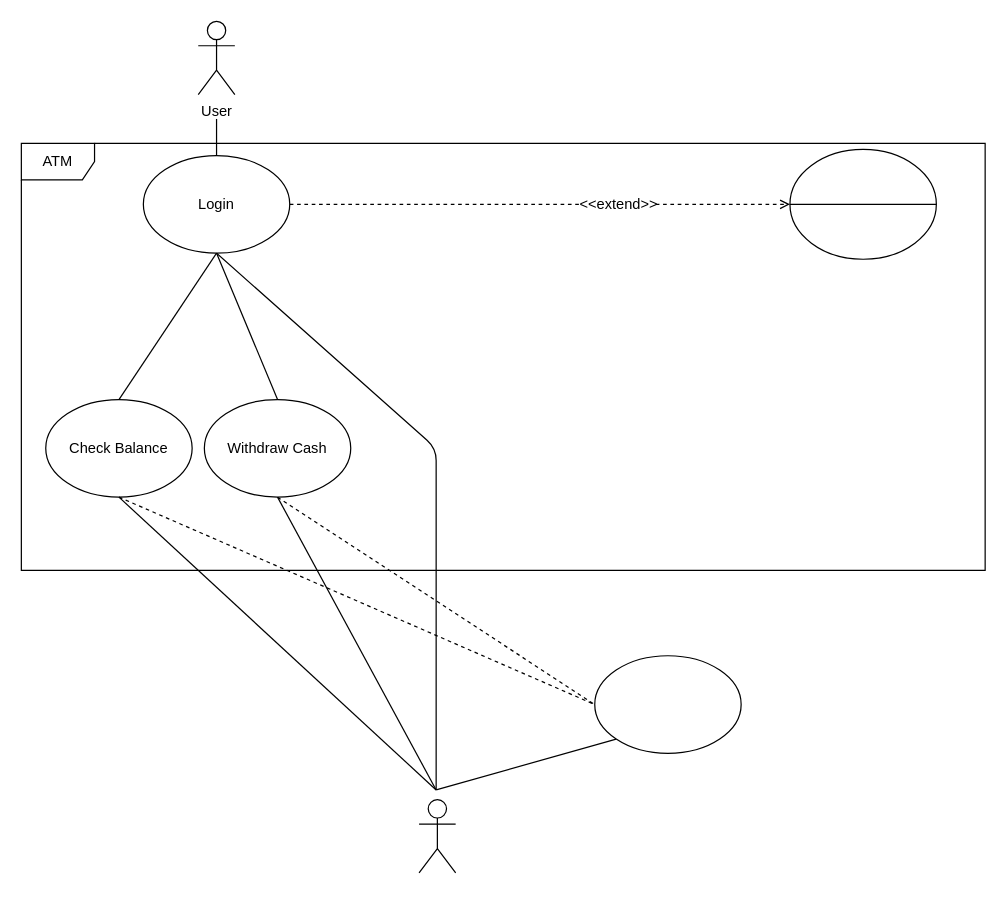
The diagram is 1007 pixels wide and 920 high, and some of its shapes have lost their labels. The shapes that lost their labels are listed below. From the top down, each one's box as (x1, y1, x2, y2) in pixels, then its label:
(789, 148, 936, 259): Lock Card ext. point: third attempt failed
(594, 655, 741, 753): Validator
(418, 798, 456, 873): Bank
